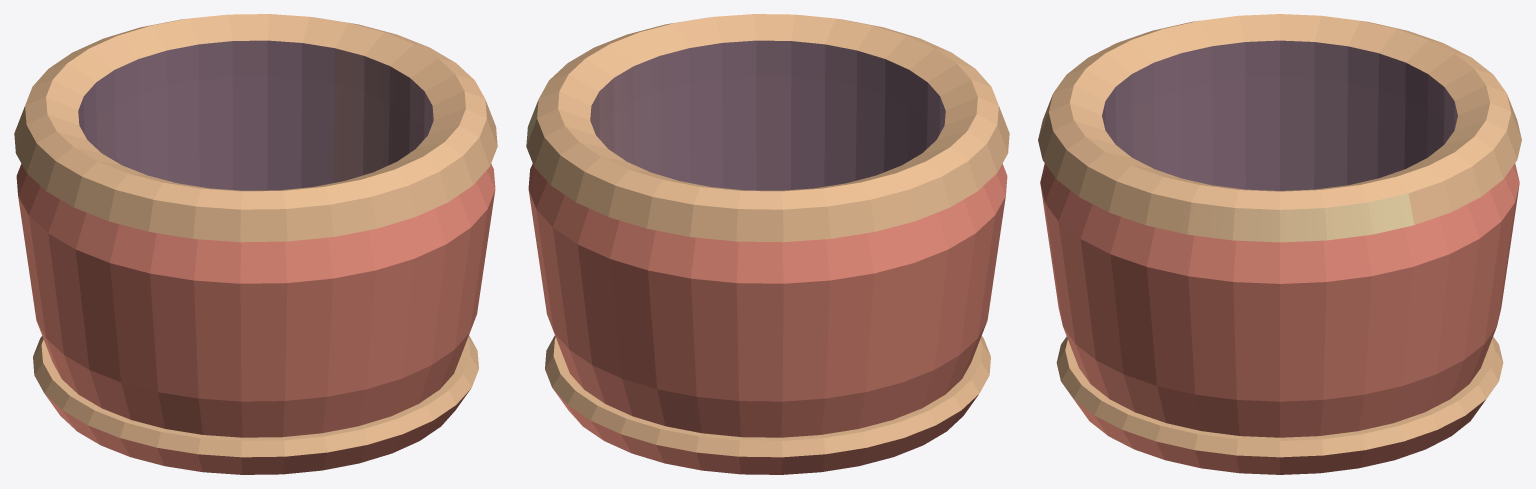
File: flowerpot.fbx
3 views of the same model, side by side, from view 1: azimuth 30°, elevation 25°; view 2: azimuth 150°, elevation 25°; view 3: azimuth 270°, elevation 25° (orthographic).
Visible parts, largest first — view 1: flowerpot; view 2: flowerpot; view 3: flowerpot.
Boxes of the visible parts, x1,y1,x2,y2 form: flowerpot: (14,14,497,474); flowerpot: (526,14,1009,474); flowerpot: (1038,14,1521,474).
Bounding box in the file's own units: 43.32 × 28.14 × 43.32.
